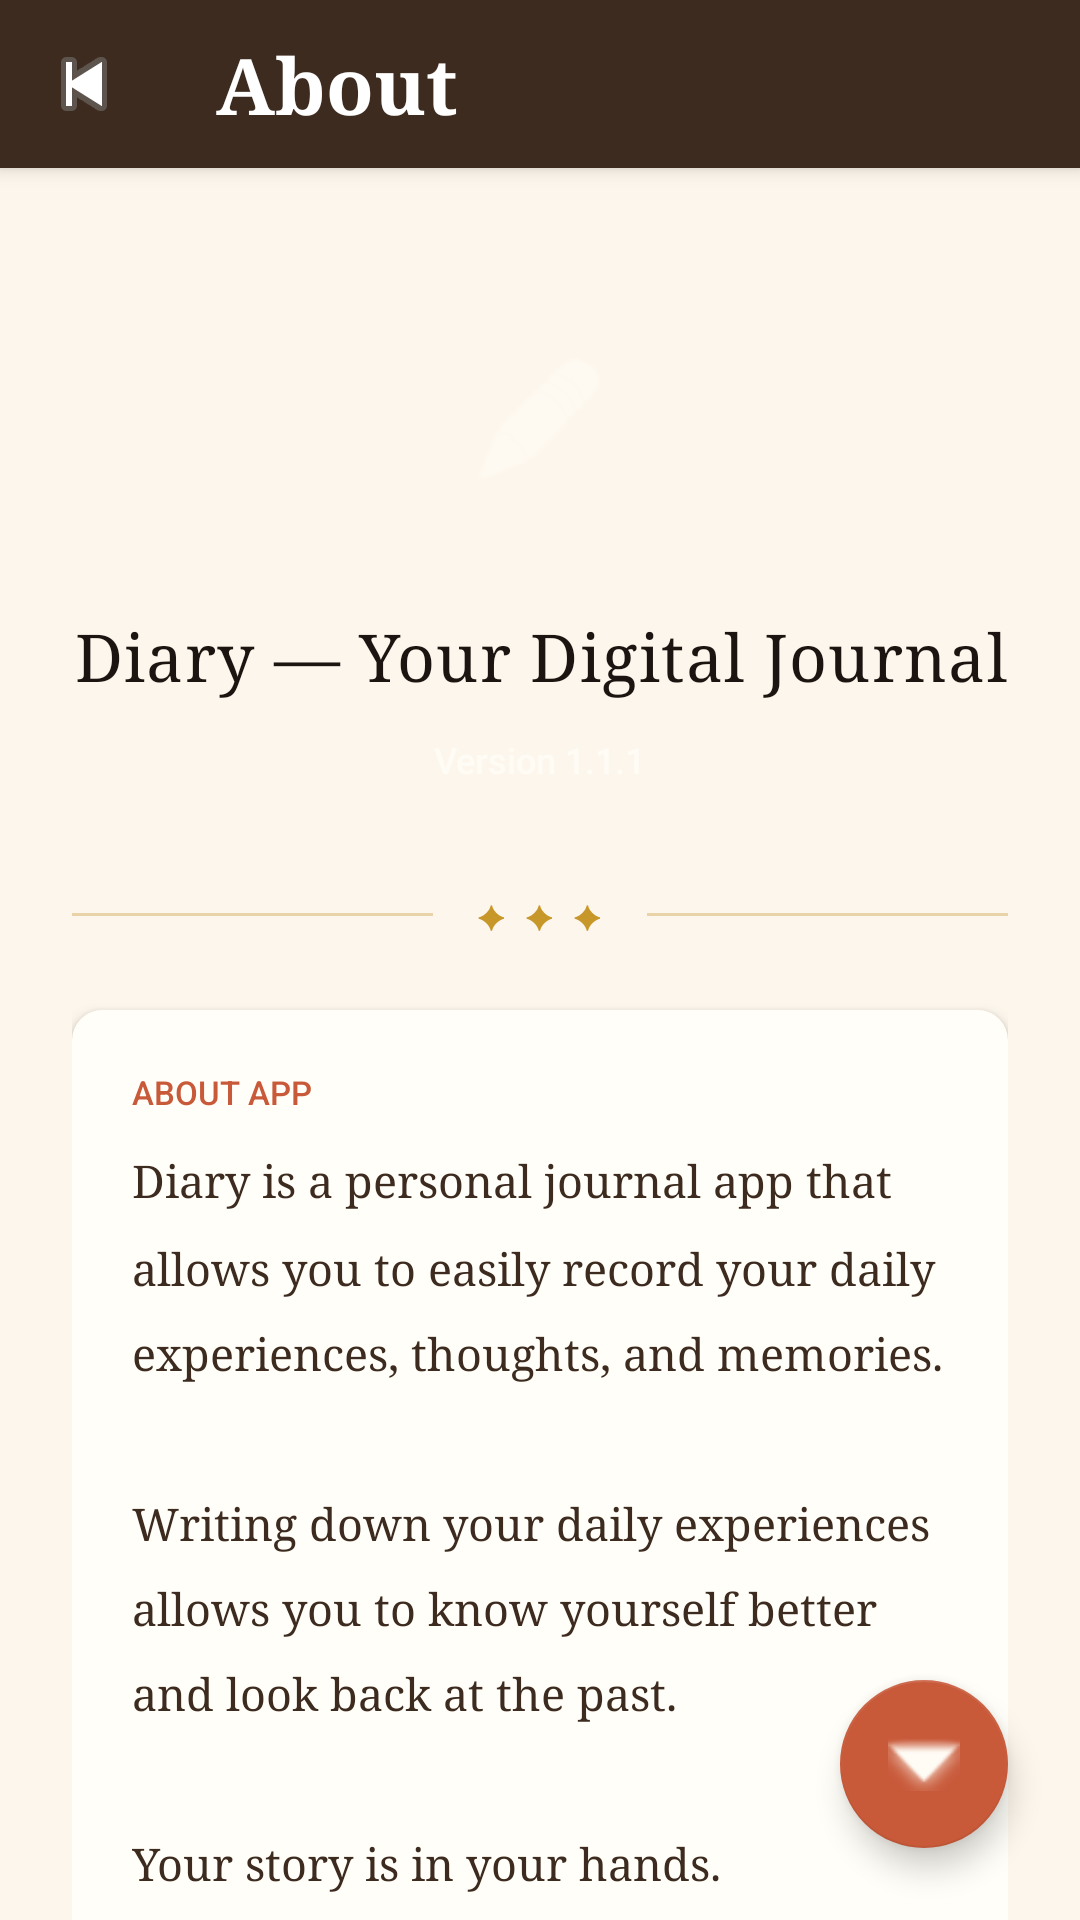

Icon click points for this 1080 x 1920 phone screenshot, format point (x, y):
Navigate to Bottom: point (924, 1764)
